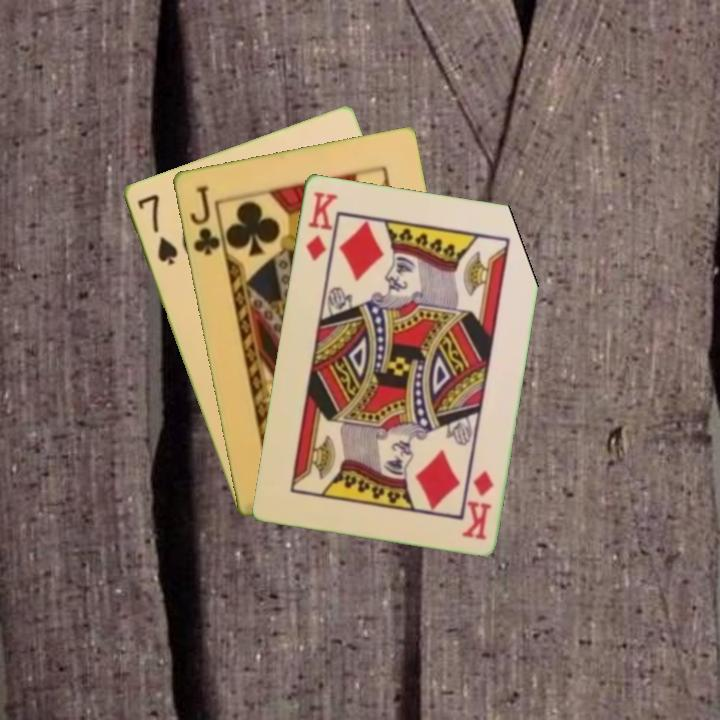7s: (133, 190, 180, 268)
Jc: (186, 181, 223, 258)
Kd: (301, 187, 340, 263), (459, 466, 496, 542)
